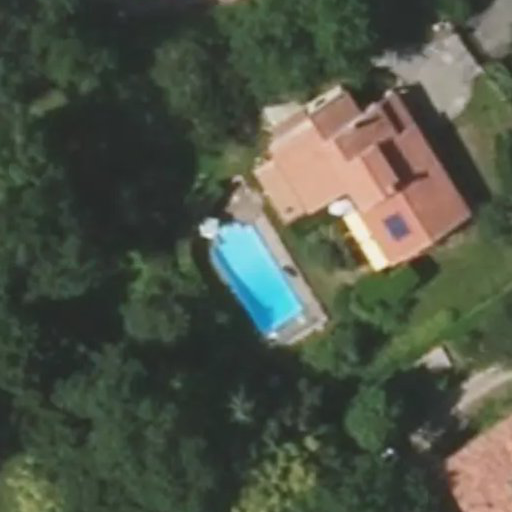pool: (203, 202, 300, 271)
